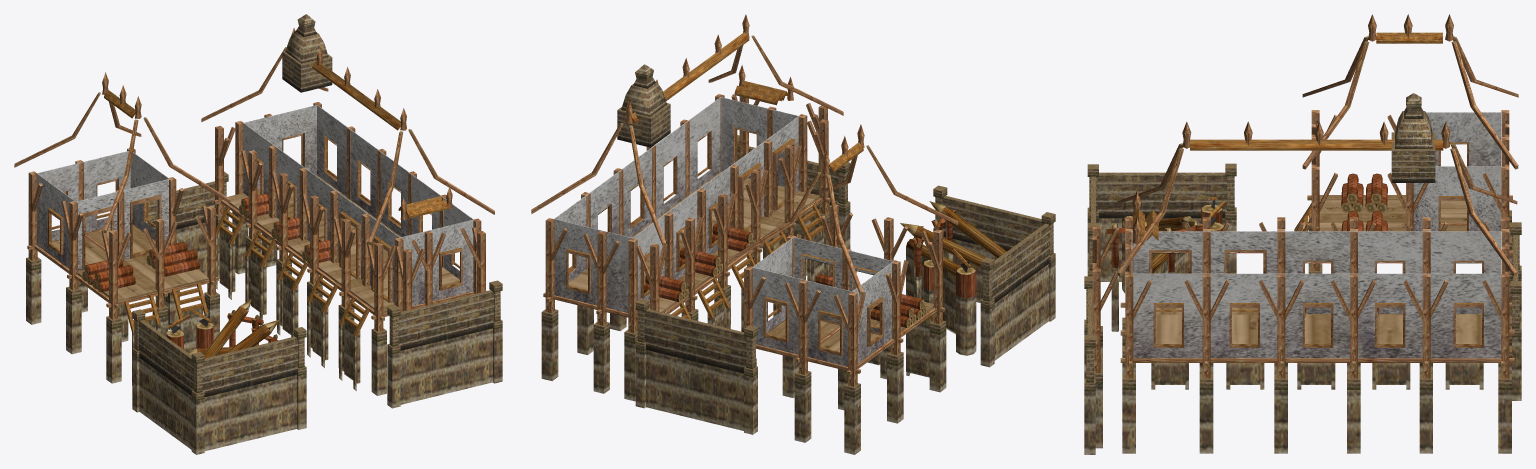
Rendered from arsenal.dae.
3 views of the same model, side by side, from view 1: azimuth 30°, elevation 25°; view 2: azimuth 150°, elevation 25°; view 3: azimuth 270°, elevation 25° (orthographic). The views are drawn at different scales.
Parts seen in each view (by area): view 1: arsenal; view 2: arsenal; view 3: arsenal.
Part boxes in pixels (x1,y1,x2,y2): arsenal: (14,14,502,454); arsenal: (531,14,1055,454); arsenal: (1084,14,1521,454).
Bounding box in the file's own units: 24.31 × 24.87 × 20.82.
